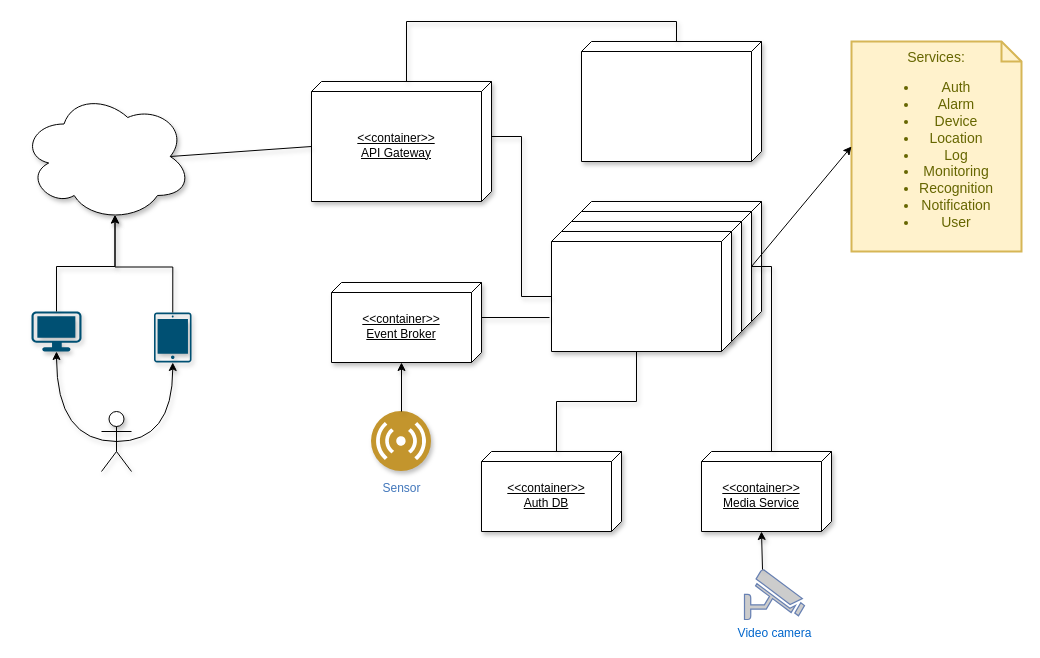
The diagram is 1040 pixels wide and 658 high, and some of its shapes have lost their labels. The centre of each missing label's shape, as x and y in pixels:
<<container>> Auth Service: pixel 642 292
<<container>> Frontend Service: pixel 672 102
User: pixel 117 442
